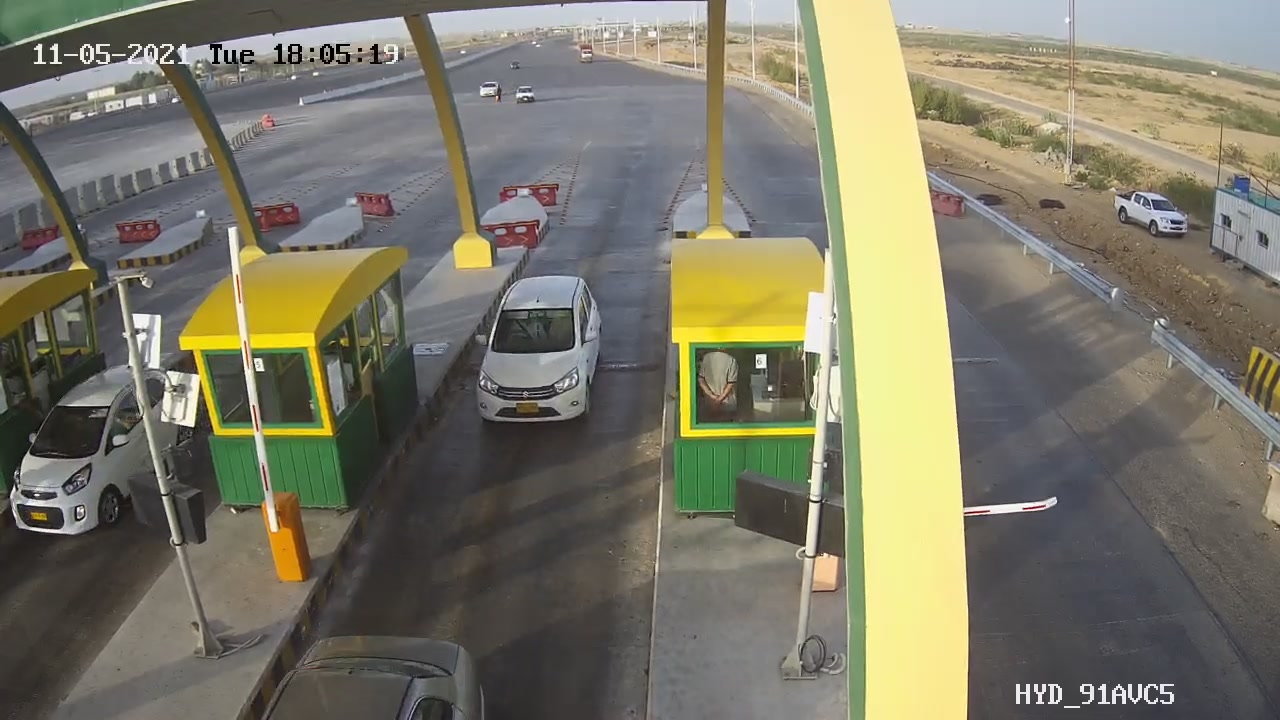F1: (457, 262, 634, 449)
